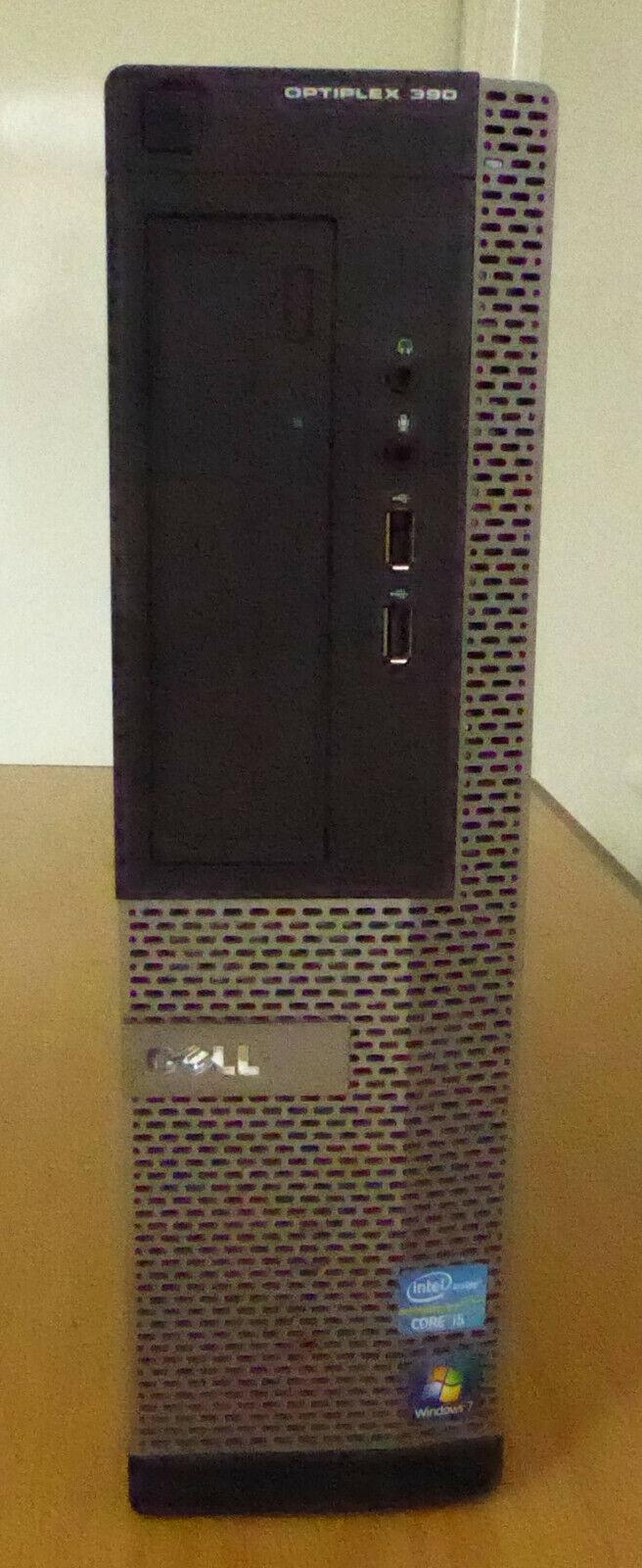DESKTOP PC: (88, 44, 574, 1522)
